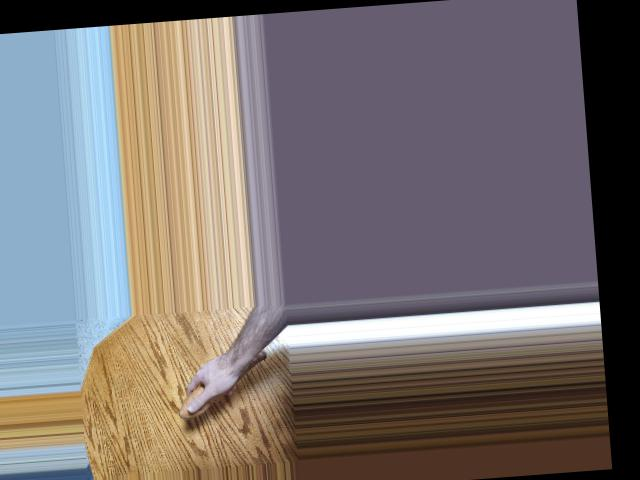sweet_potato: (173, 351, 273, 421)
